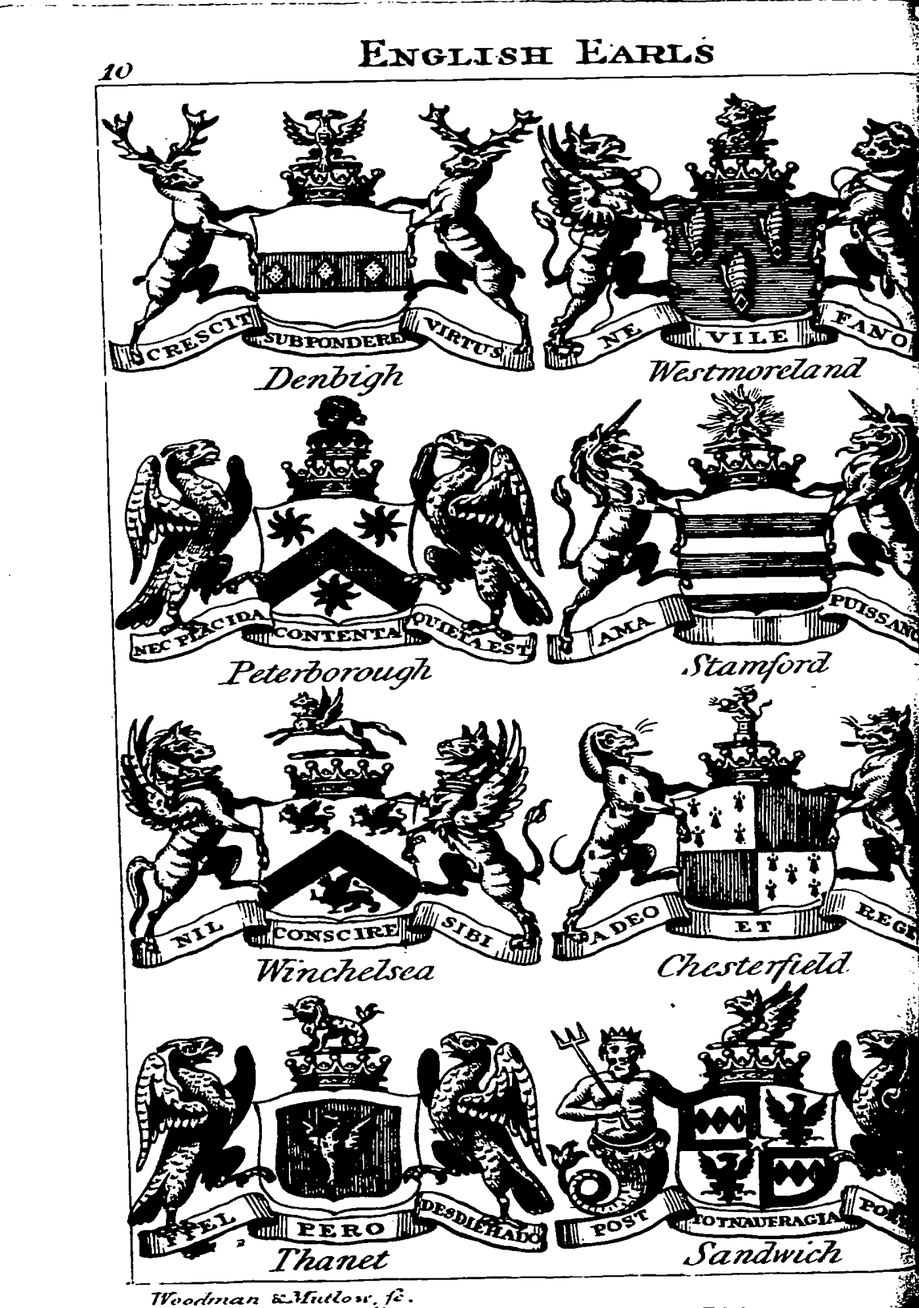coat_of_arms: (127, 382, 551, 691), (107, 97, 544, 388), (124, 695, 547, 993), (540, 85, 919, 383), (557, 378, 919, 689), (137, 1014, 559, 1274), (561, 976, 919, 1274), (568, 695, 919, 986)
